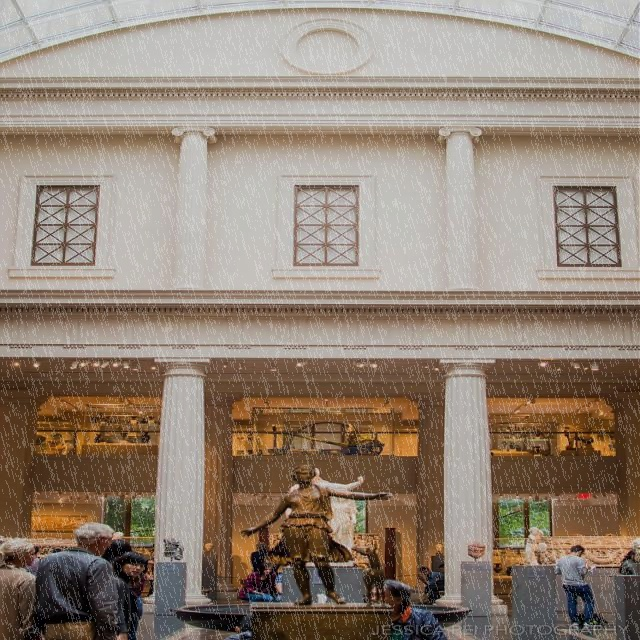pessoa: (234, 462, 398, 610), (34, 520, 122, 640), (369, 579, 451, 639), (550, 544, 606, 630), (0, 536, 41, 640), (109, 550, 153, 640), (236, 562, 280, 604), (15, 544, 66, 578), (415, 566, 445, 606), (521, 526, 551, 564), (100, 538, 135, 568), (613, 536, 639, 576), (30, 431, 71, 455), (218, 614, 255, 640), (158, 534, 186, 564), (249, 542, 271, 574), (144, 542, 154, 598), (197, 540, 219, 555), (432, 543, 444, 554), (438, 562, 445, 574)
